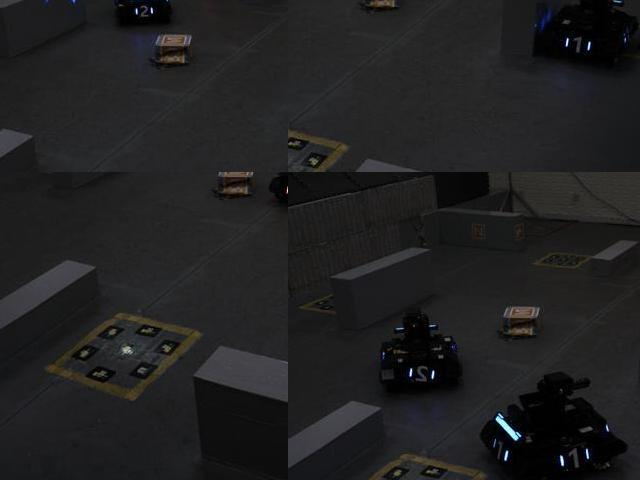armor: (553, 444, 592, 475), (487, 430, 516, 469), (561, 31, 594, 61), (403, 362, 440, 387), (129, 1, 157, 20), (281, 178, 287, 205)
